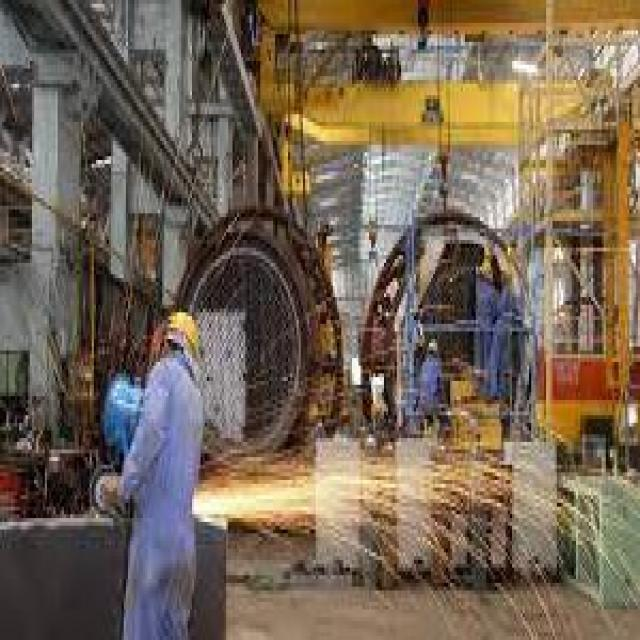Reflective-Jacket: (115, 358, 220, 545)
Safety-Helmet: (154, 301, 211, 373)
